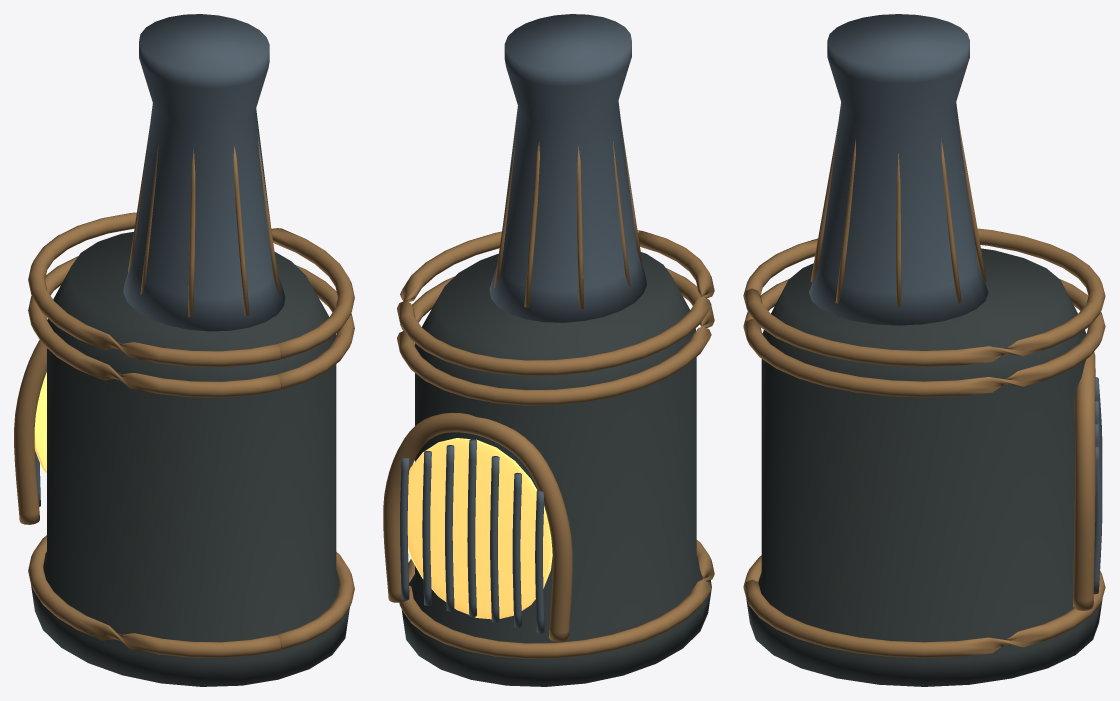
Rendered from furnace.glb.
3 renders of one model, left to right at view 1: azimuth 30°, elevation 25°; view 2: azimuth 150°, elevation 25°; view 3: azimuth 270°, elevation 25°, orthographic. The views are drawn at different scales.
Visible parts, largest first — view 1: Body__recess, Body__iron, Body__bronze, Body__ember; view 2: Body__recess, Body__iron, Body__bronze, Body__ember; view 3: Body__recess, Body__iron, Body__bronze.
Part boxes in pixels (<box>): Body__recess: <box>31,232,349,686</box>; Body__iron: <box>35,14,285,506</box>; Body__bronze: <box>14,126,354,658</box>; Body__ember: <box>34,372,46,473</box>; Body__recess: <box>402,252,711,686</box>; Body__iron: <box>400,14,646,633</box>; Body__bronze: <box>383,124,714,658</box>; Body__ember: <box>407,438,552,619</box>; Body__recess: <box>746,248,1102,686</box>; Body__iron: <box>809,14,1102,594</box>; Body__bronze: <box>743,121,1105,658</box>.
Size of the model in its own units: 1.59 by 3.24 by 1.83.
